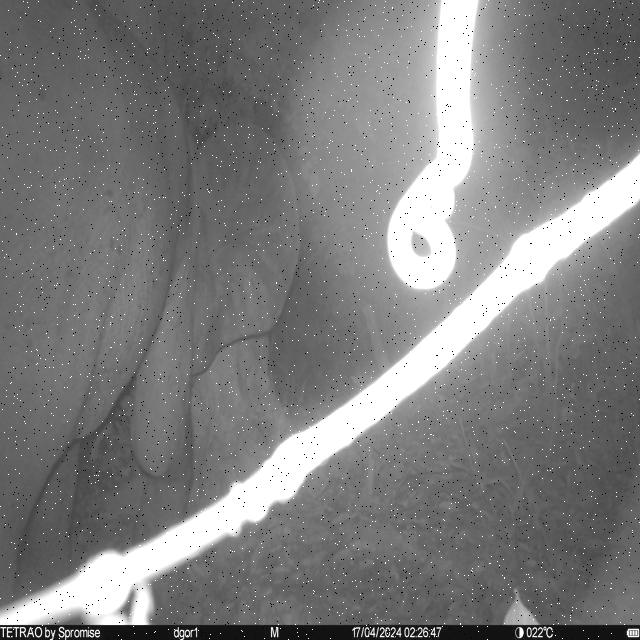ear: (192, 120, 302, 378)
elephant: (0, 0, 304, 611)
